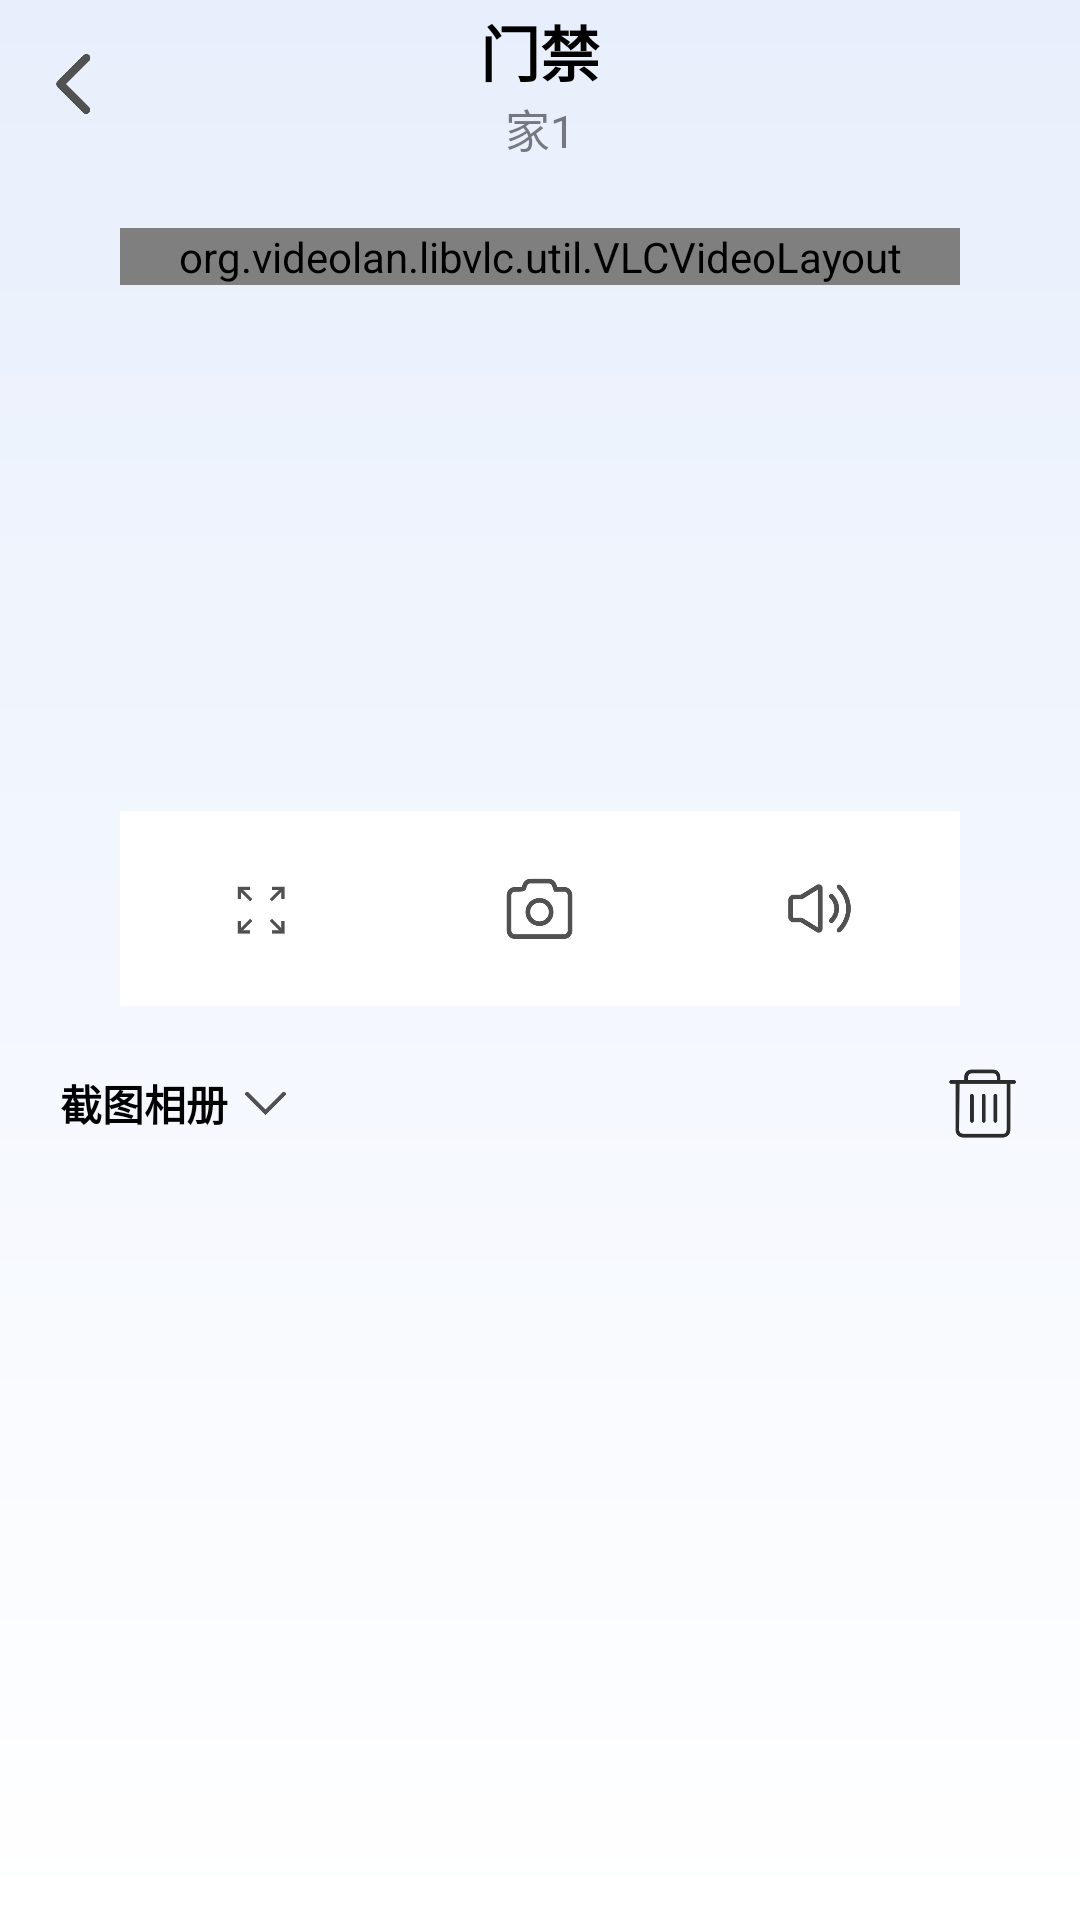

Point at icon controls on the screen. Image size 1080×1920, points as (x=x, y=y).
clearall: (x=982, y=1103)
fullscreen: (x=261, y=910)
shotcut: (x=539, y=909)
voice: (x=819, y=908)
返回主页: (x=73, y=84)
